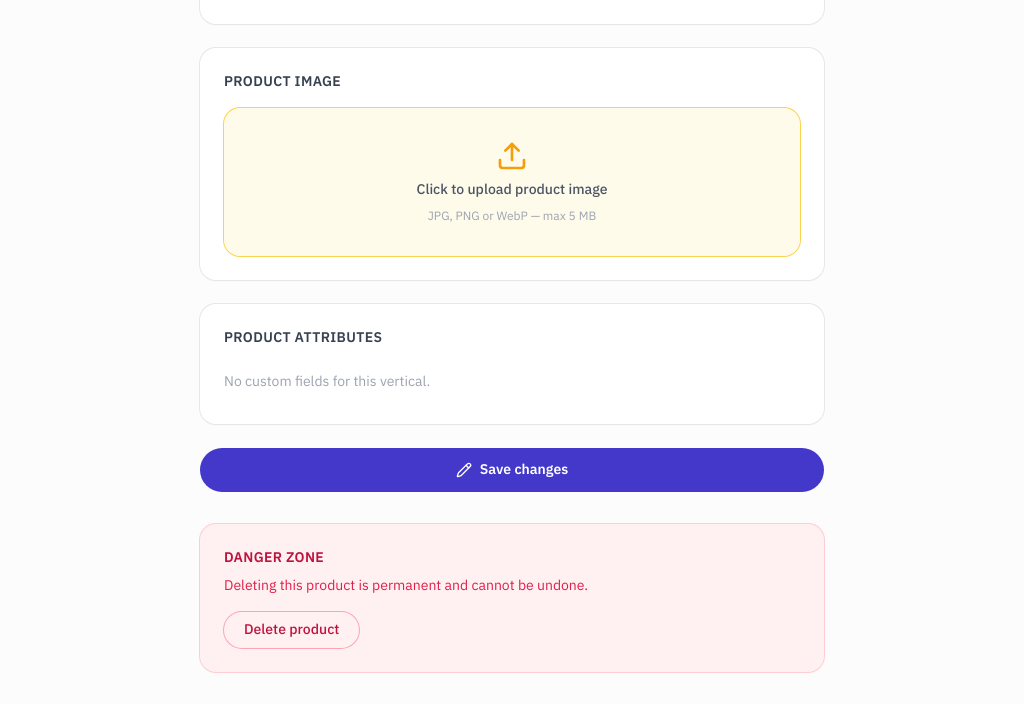
Test case: SellerEditProductPage › shows server 422 validation error message
The width and height of the screenshot is (1024, 704).
(page scrolled)
Click the button "Save changes".
click(512, 470)  # box [200,448,824,492]
(page scrolled)
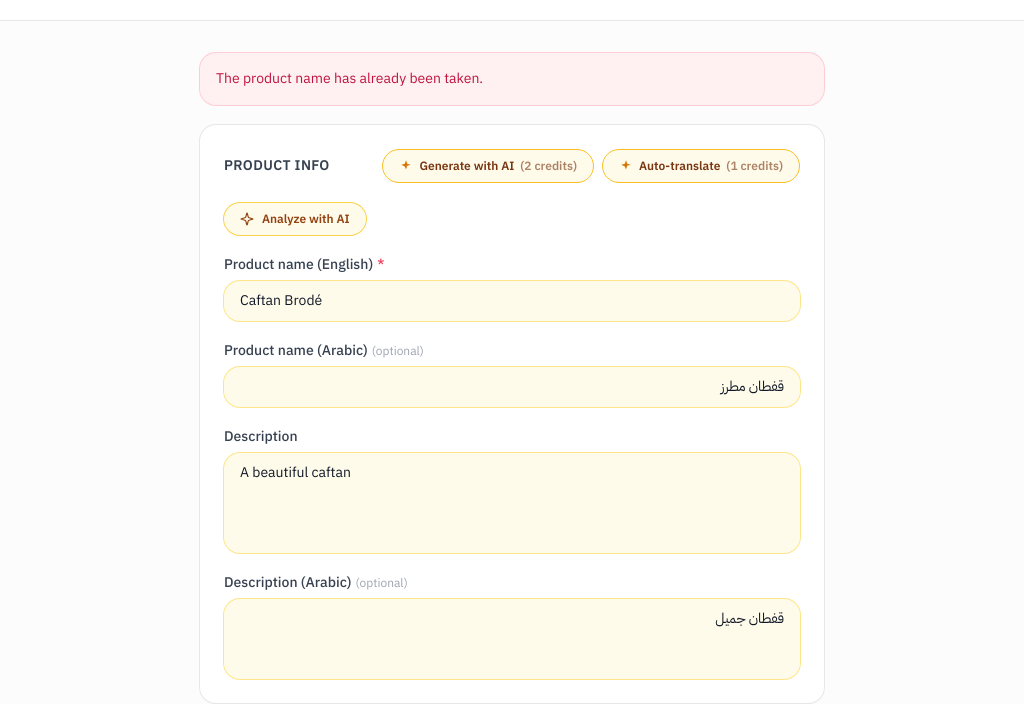
Check: the text "The product name has already been taken." is shown, box [200,53,824,105]
